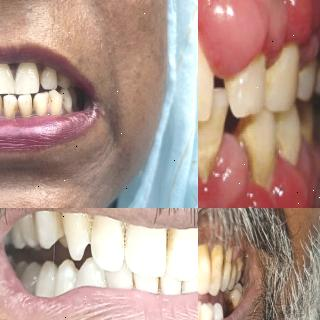Gum Swelling: (198, 0, 320, 64), (198, 151, 312, 208)
calculus: (241, 118, 275, 196), (198, 121, 222, 180), (277, 120, 303, 166), (262, 54, 280, 106), (299, 117, 315, 158), (291, 62, 309, 96), (225, 294, 240, 310), (314, 58, 320, 86)
maligned: (32, 89, 49, 113), (47, 88, 65, 110), (17, 90, 33, 114), (2, 92, 16, 114)
stains: (81, 214, 98, 244), (51, 209, 66, 235), (165, 225, 175, 255), (8, 100, 20, 118), (19, 99, 31, 117), (30, 97, 42, 115), (121, 222, 129, 249), (155, 276, 165, 294), (60, 94, 70, 110), (47, 94, 55, 112), (131, 272, 137, 290), (0, 96, 4, 120)
